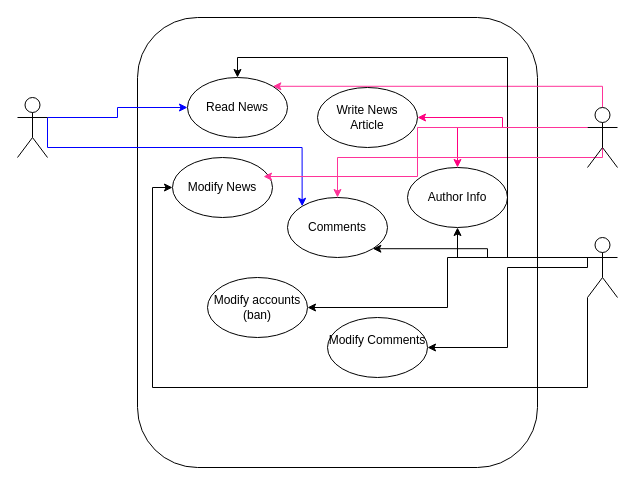
The diagram is 641 pixels wide and 485 high, and some of its shapes have lost their labels. The box of each missing label's shape, as (x1, y1, x2, y2) in pixels:
Admin: (586, 236, 618, 298)
client: (16, 96, 48, 158)
reporter: (586, 106, 618, 168)
